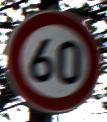Speed Limit -60-: (3, 4, 103, 116)
